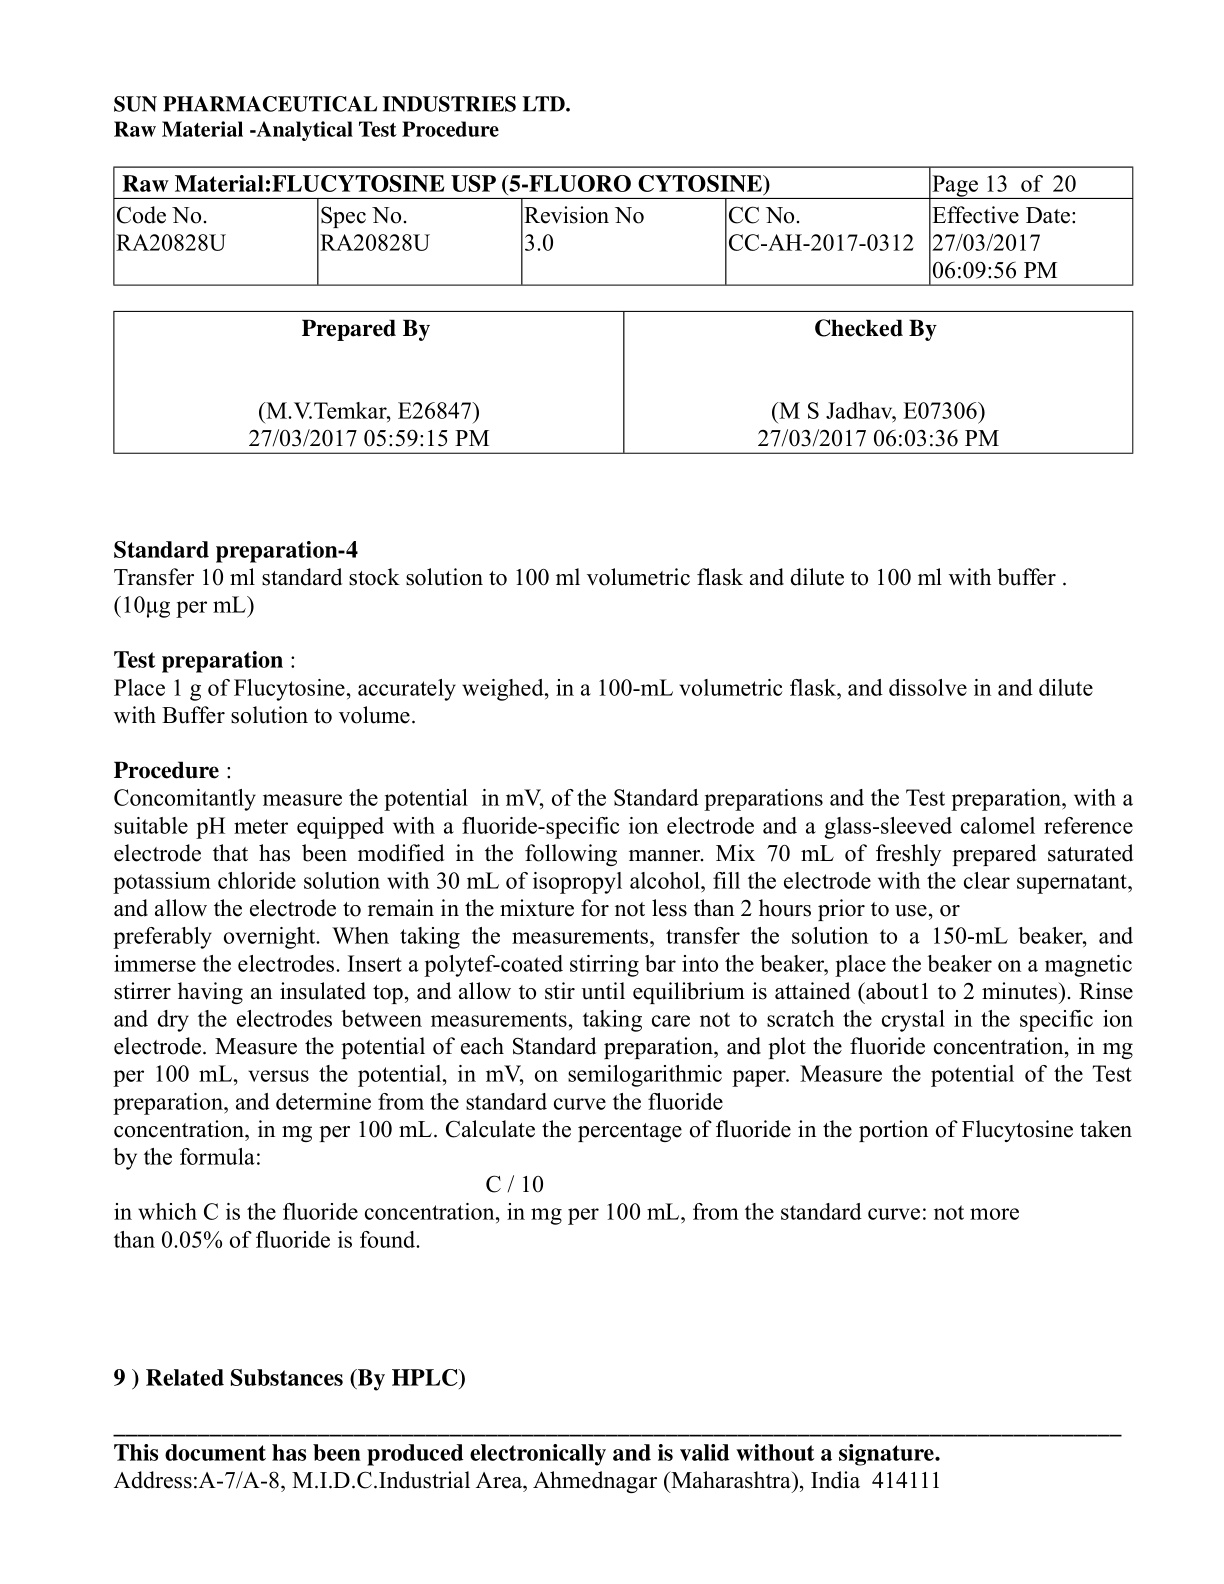full_lined: (112, 309, 1135, 455)
merged_cells: (112, 165, 1134, 287)
